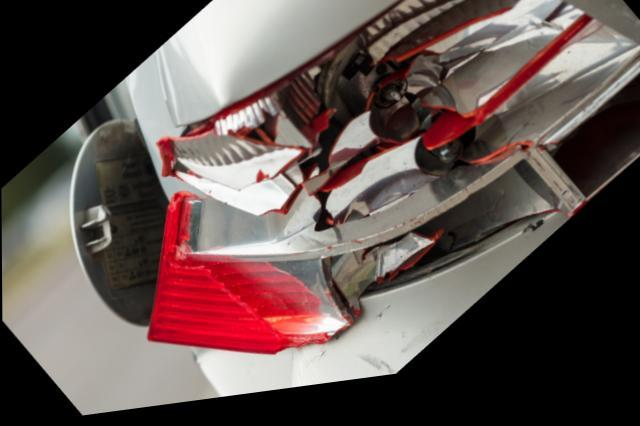lamp broken: (147, 0, 640, 362)
